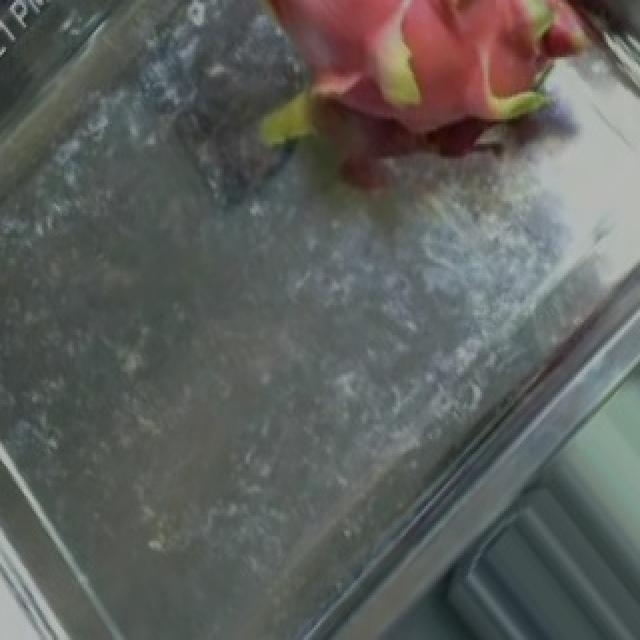fruit: (206, 0, 632, 275)
